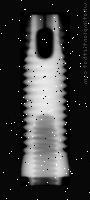3M ESPE: (16, 12, 70, 187)
